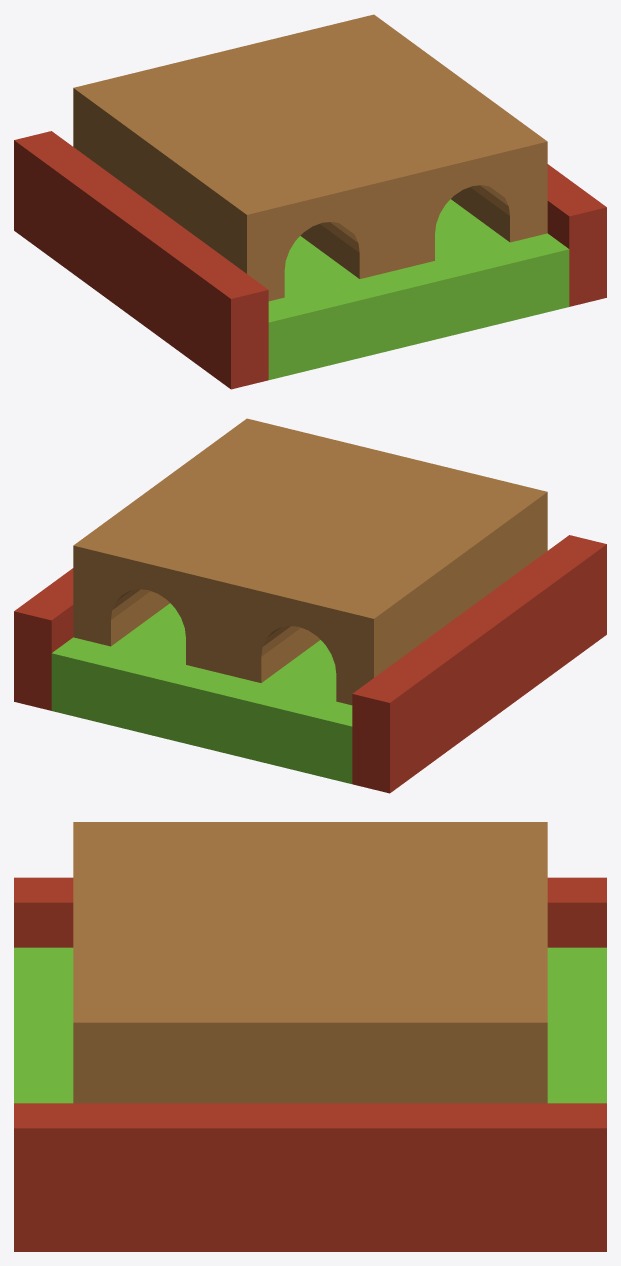
Rendered from Tunnel_Double.FBX.
The picture shows the model from 3 angles, top to bottom: view 1: azimuth 30°, elevation 25°; view 2: azimuth 150°, elevation 25°; view 3: azimuth 270°, elevation 25°; orthographic projection. The views are drawn at different scales.
Parts seen in each view (by area): view 1: Obstacle, Walls, Tunnel_double_01; view 2: Obstacle, Walls, Tunnel_double_01; view 3: Obstacle, Walls, Tunnel_double_01.
Part boxes in pixels (bbox=[...]): Obstacle: bbox=[73, 14, 547, 301]; Walls: bbox=[14, 131, 606, 389]; Tunnel_double_01: bbox=[268, 199, 569, 379]; Obstacle: bbox=[73, 418, 547, 705]; Walls: bbox=[14, 535, 606, 793]; Tunnel_double_01: bbox=[51, 603, 352, 783]; Obstacle: bbox=[73, 822, 547, 1103]; Walls: bbox=[14, 877, 606, 1251]; Tunnel_double_01: bbox=[14, 947, 606, 1103].
Bounding box in the file's own units: 0.9999 × 0.9999 × 0.38.
